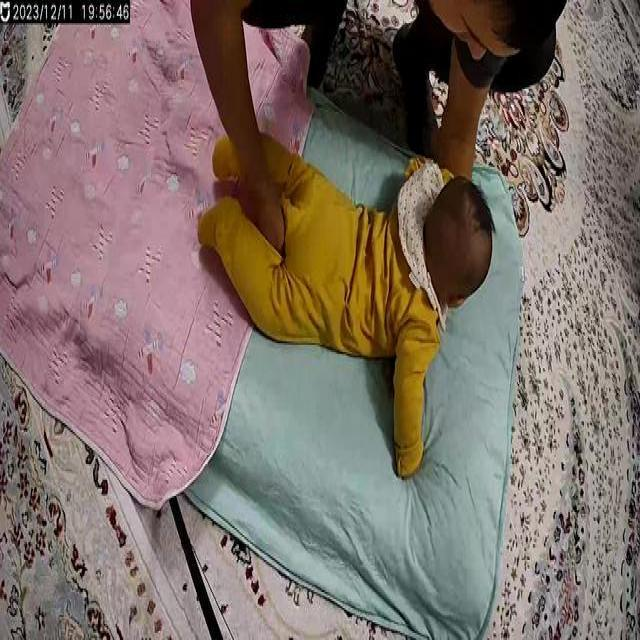baby: (194, 119, 493, 502)
